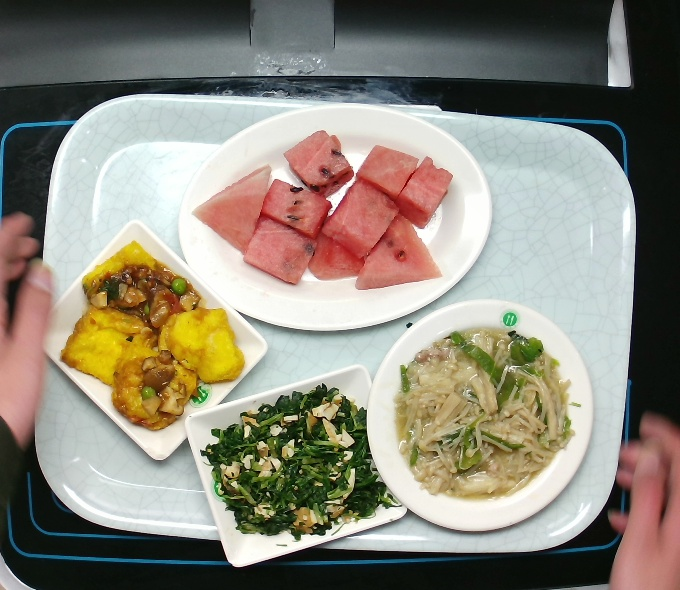wcq-CuiPiDouFu: (55, 234, 250, 435)
wcq-JinZhenGu: (384, 319, 589, 510)
wcq-MaLanTouChaoDouGan: (196, 381, 407, 551)
wcq-XiGua: (186, 126, 459, 293)
